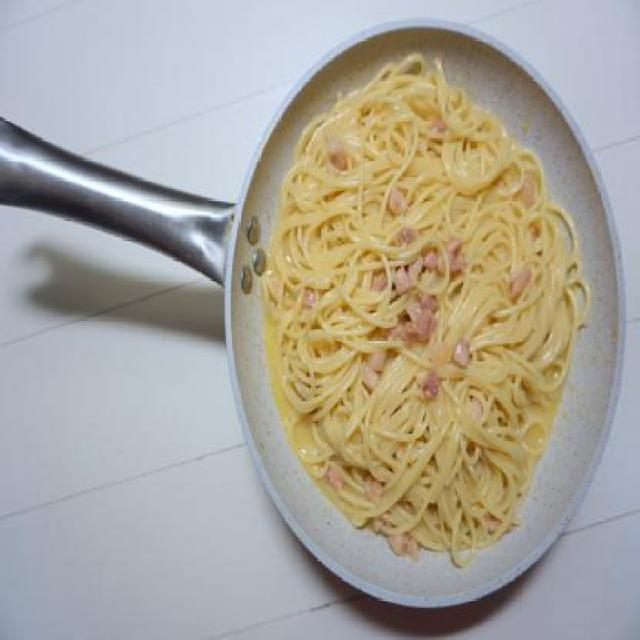Pasta with carbonara sauce: (258, 49, 598, 596)
